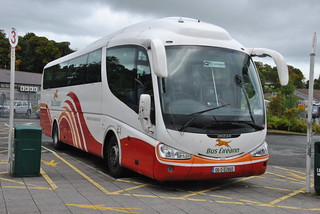bus: (40, 17, 286, 182)
